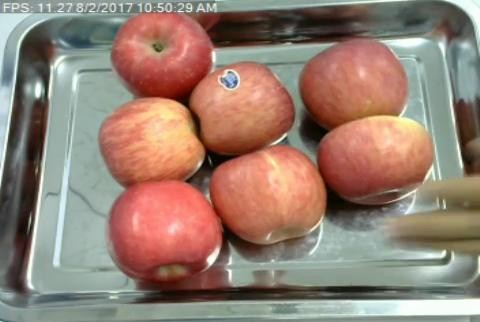apple: (104, 180, 219, 282), (212, 145, 327, 245), (319, 115, 434, 204), (192, 60, 294, 153), (97, 96, 205, 182), (298, 38, 408, 119), (110, 12, 212, 99)
